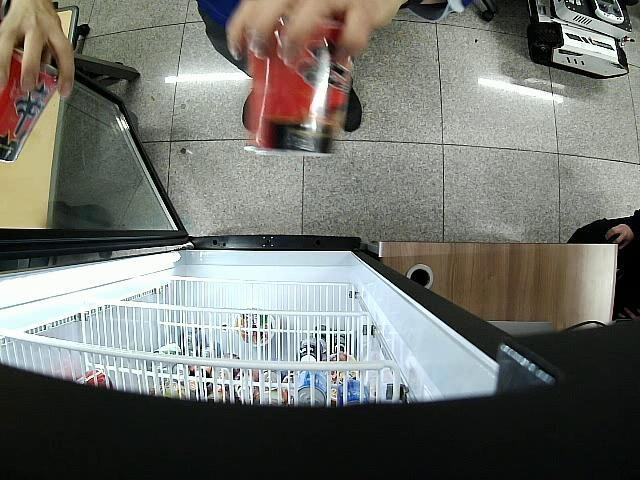02_shinRamen_S: (242, 19, 354, 158), (0, 48, 60, 163)
